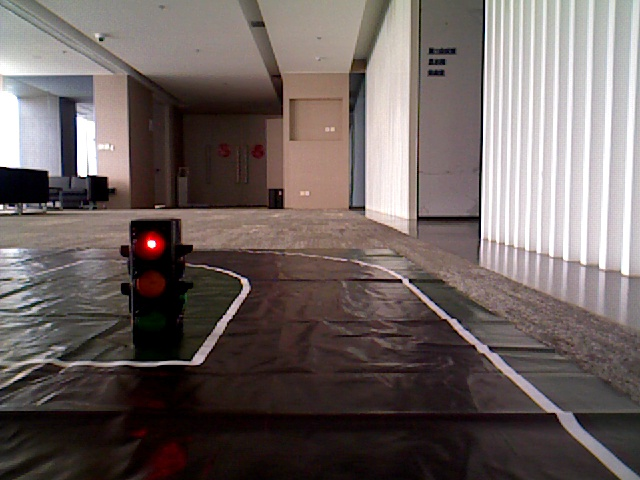red: (128, 222, 178, 343)
